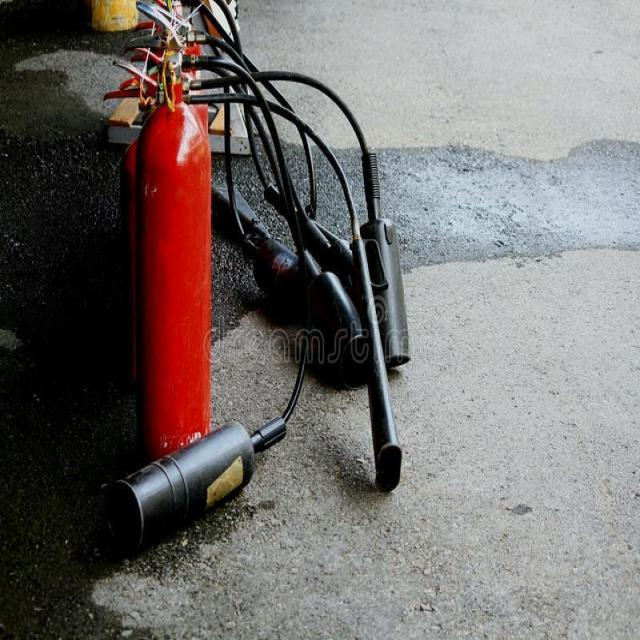fire_extinguisher: (120, 0, 408, 534)
